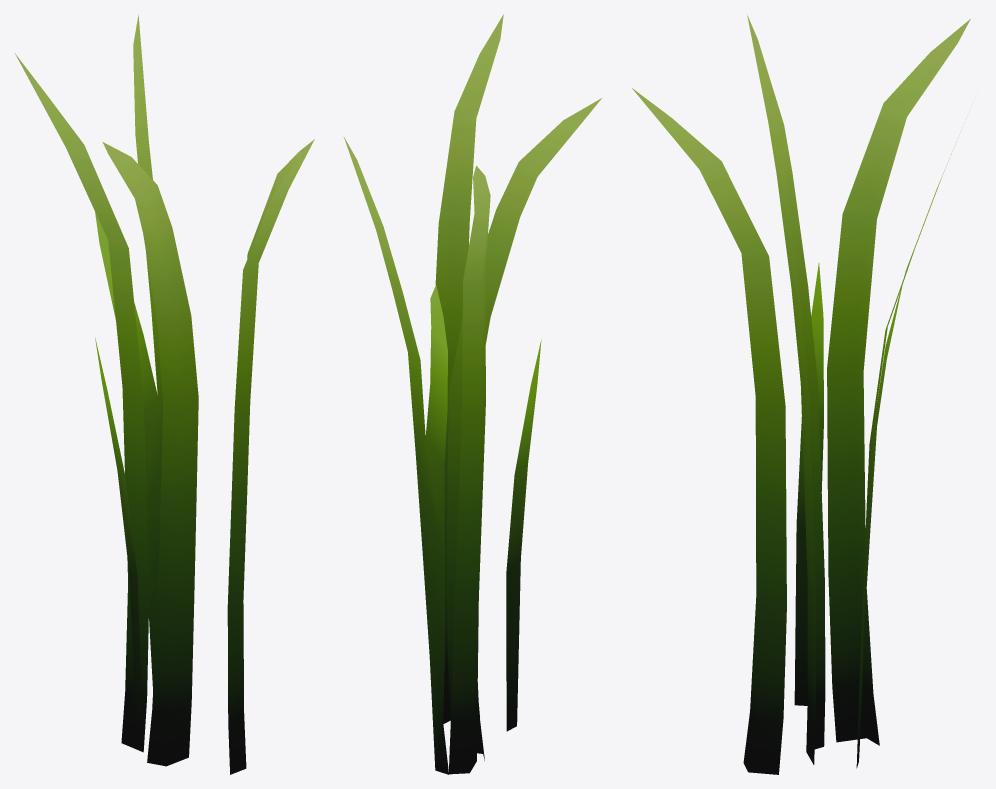
Rendered from grass-common-tall-lo.glb.
3 views of the same model, side by side, from view 1: azimuth 30°, elevation 25°; view 2: azimuth 150°, elevation 25°; view 3: azimuth 270°, elevation 25° (orthographic). The views are drawn at different scales.
Parts seen in each view (by area): view 1: Grass_Common_Tall; view 2: Grass_Common_Tall; view 3: Grass_Common_Tall.
Part boxes in pixels (x1,y1,x2,y2): Grass_Common_Tall: (15,14,314,774); Grass_Common_Tall: (343,14,601,774); Grass_Common_Tall: (632,14,970,774).
Bounding box in the file's own units: 0.6673 × 2.66 × 1.2.
Materials: 1 (1 with a texture image).
